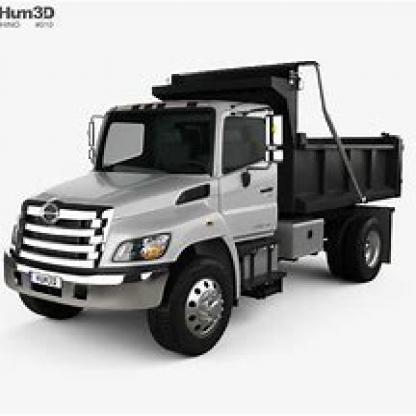dump_truck: (2, 48, 397, 361)
